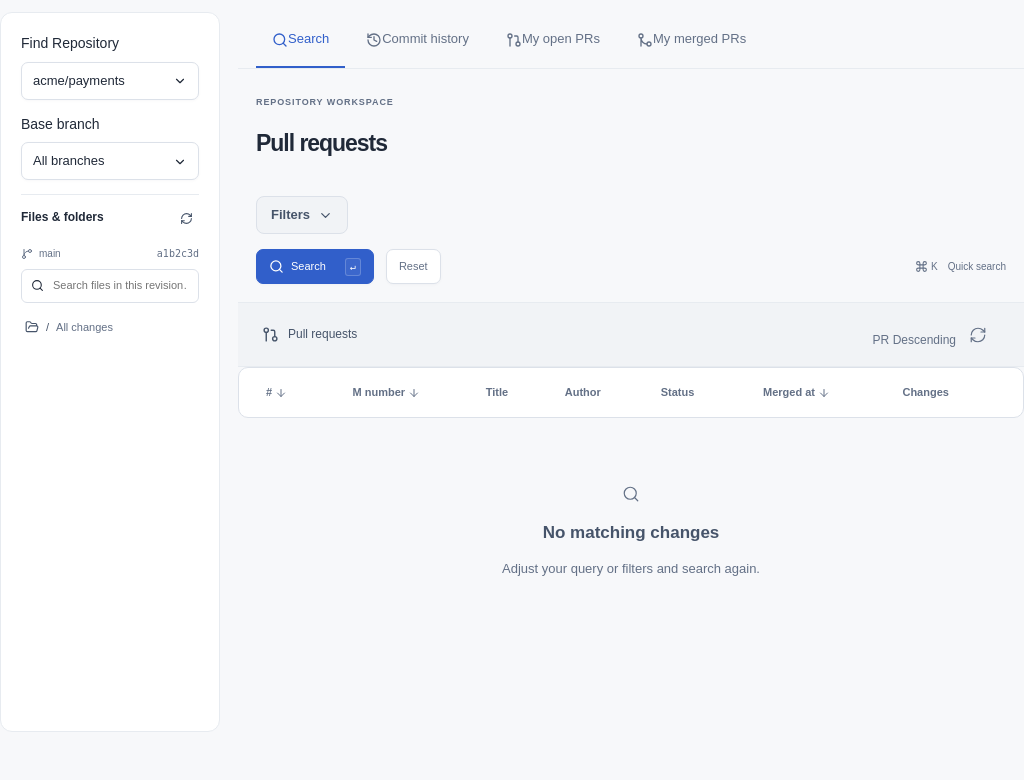
CR-111: Range filter 통합 › M number 필드는 저장소·base branch 선택 전엔 비활성이고 사유가 title로 붙는다
Click the button "Filters". click: (302, 215)
box: top-left (256, 196), bottom-right (348, 234)
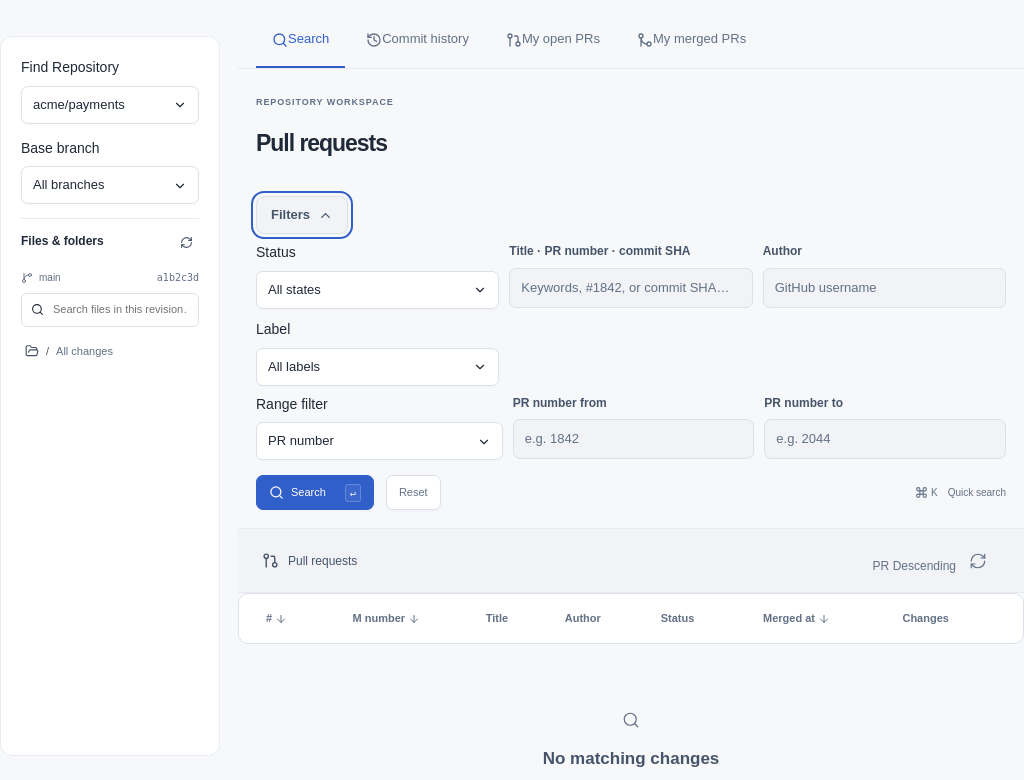
Click the dropdown named "Range filter". click: (379, 441)
box: top-left (256, 422), bottom-right (503, 460)
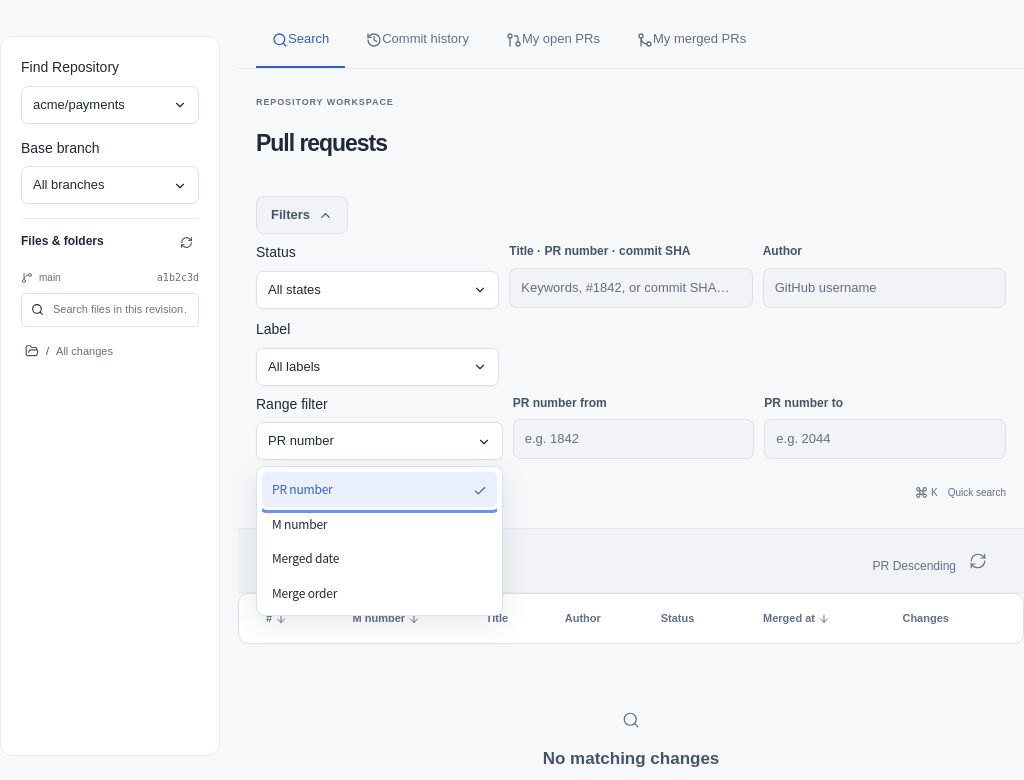
Click the option "M number". click: (300, 523)
box: top-left (272, 515), bottom-right (327, 532)
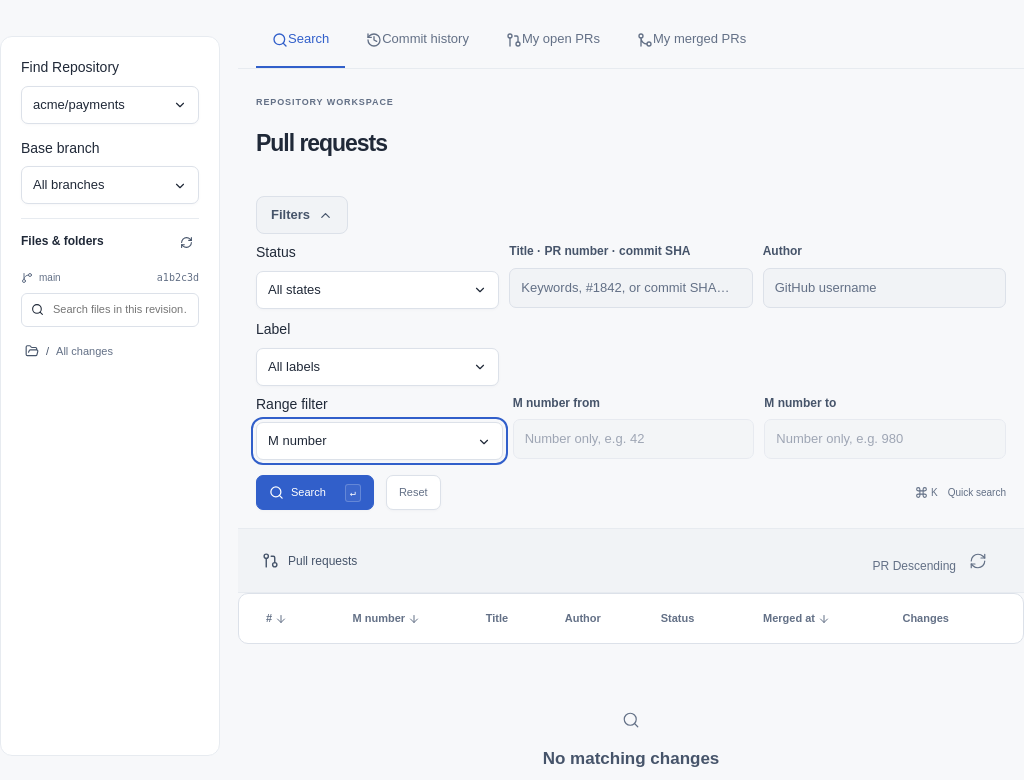
Check: the number field labelled "M number from" is disabled, box top-left (513, 419), bottom-right (754, 459)
